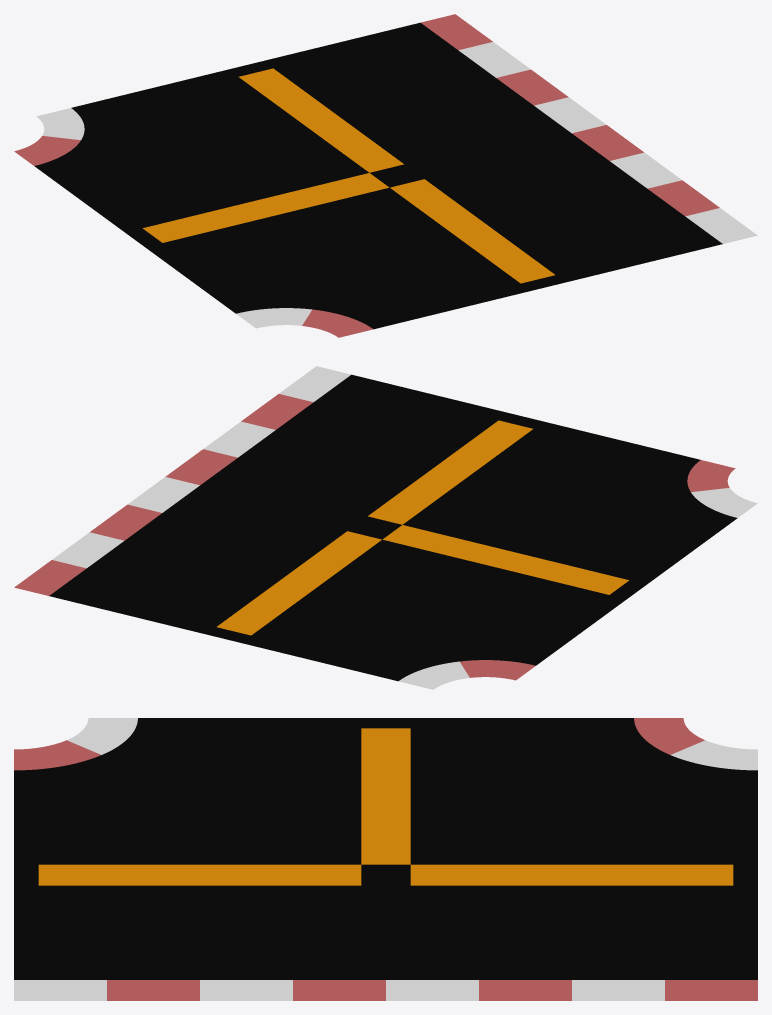
File: Just Track Junction.fbx
The picture shows the model from 3 angles, top to bottom: view 1: azimuth 30°, elevation 25°; view 2: azimuth 150°, elevation 25°; view 3: azimuth 270°, elevation 25°; orthographic projection. The views are drawn at different scales.
Parts seen in each view (by area): view 1: Track Junction.001; view 2: Track Junction.001; view 3: Track Junction.001.
Part boxes in pixels (x1=…): Track Junction.001: x1=14, y1=14, x2=757, y2=337; Track Junction.001: x1=14, y1=366, x2=757, y2=689; Track Junction.001: x1=14, y1=718, x2=757, y2=1000.
Size of the model in its own units: 2.7 by 0 by 3.
